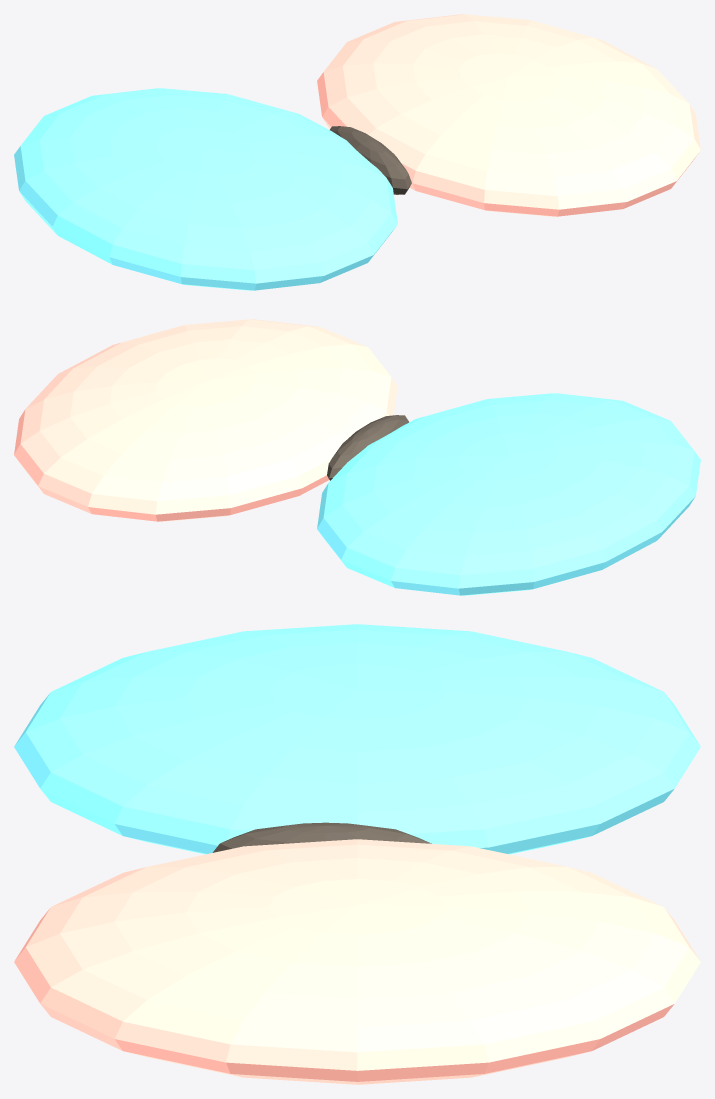
Rendered from s1_quality_butterfly.glb.
3 views of the same model, one above another, from view 1: azimuth 30°, elevation 25°; view 2: azimuth 150°, elevation 25°; view 3: azimuth 270°, elevation 25° (orthographic). The views are drawn at different scales.
Visible parts, largest first — view 1: s1_quality_butterfly; view 2: s1_quality_butterfly; view 3: s1_quality_butterfly.
Boxes of the visible parts, x1,y1,x2,y2 form: s1_quality_butterfly: (14,14,700,290); s1_quality_butterfly: (14,319,700,595); s1_quality_butterfly: (14,624,700,1084).
Bounding box in the file's own units: 1.61 × 0.198 × 1.08.
